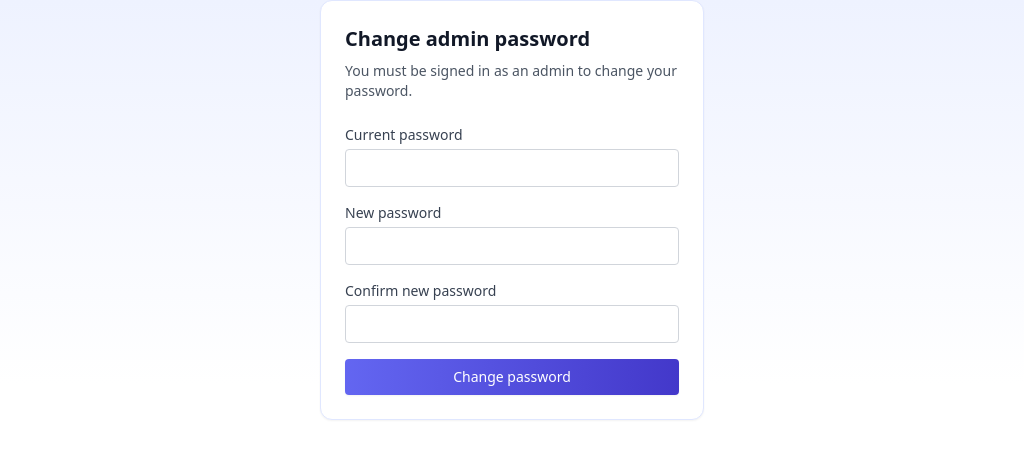
Test: AdminPasswordPage › requires the current and new password
Click the button "Change password".
click(512, 377)  # box [345,359,679,395]
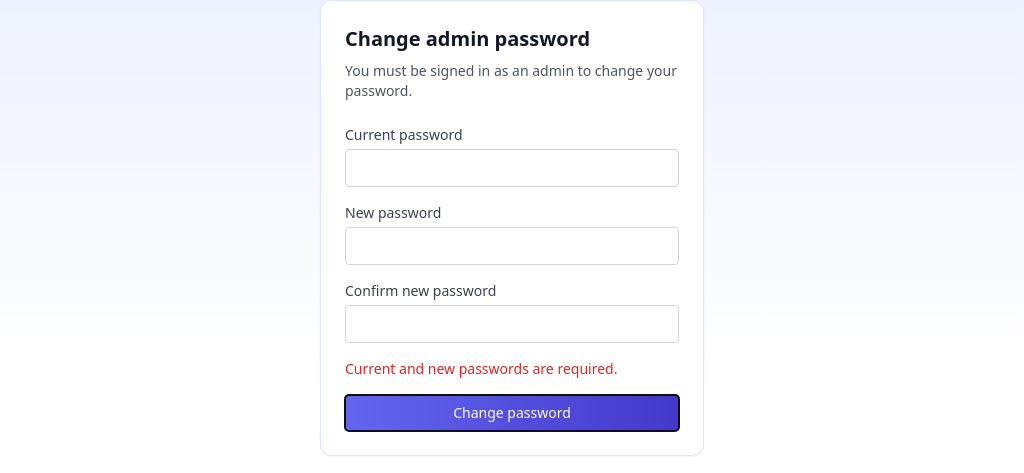
expect the message shows "required": met, box [345,359,617,378]
